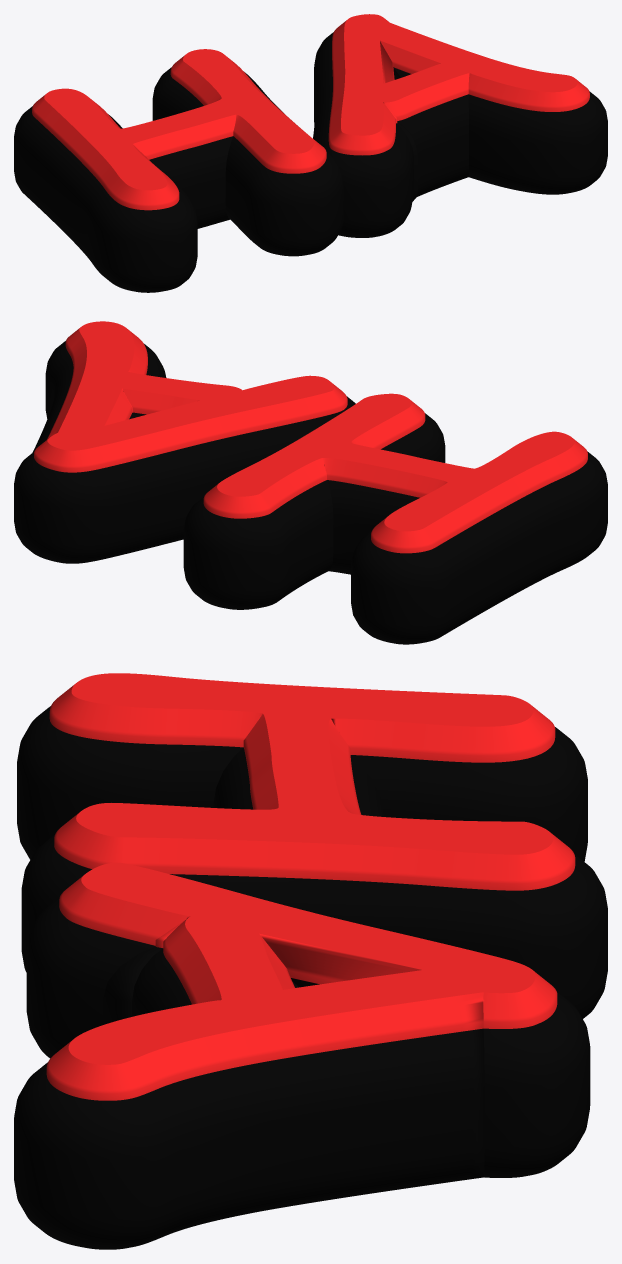
3 renders of one model, top to bottom at view 1: azimuth 30°, elevation 25°; view 2: azimuth 150°, elevation 25°; view 3: azimuth 270°, elevation 25°, orthographic. The views are drawn at different scales.
Visible parts, largest first — view 1: Text, Text.002; view 2: Text, Text.002; view 3: Text, Text.002.
Boxes of the visible parts, box(x1,y1,x2,y2) form: Text: box(14, 32, 607, 292); Text.002: box(32, 14, 589, 210); Text: box(14, 341, 607, 644); Text.002: box(34, 321, 587, 553); Text: box(14, 706, 607, 1249); Text.002: box(46, 673, 575, 1100).
Bounding box in the file's own units: 94.95 × 18.22 × 54.44.
